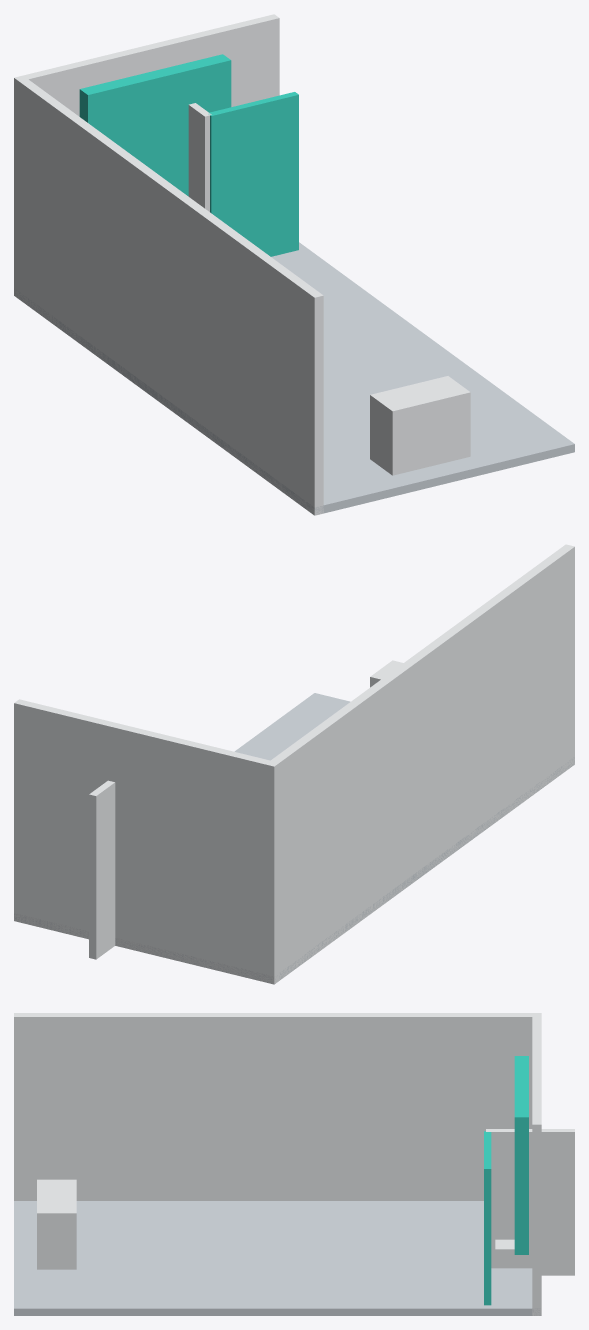
The picture shows the model from 3 angles, top to bottom: view 1: azimuth 30°, elevation 25°; view 2: azimuth 150°, elevation 25°; view 3: azimuth 270°, elevation 25°; orthographic projection. The views are drawn at different scales.
Visible parts, largest first — view 1: Exhibition Booth Concept; view 2: Exhibition Booth Concept; view 3: Exhibition Booth Concept.
Boxes of the visible parts, box(x1,y1,x2,y2) form: Exhibition Booth Concept: box(14, 14, 574, 515); Exhibition Booth Concept: box(14, 544, 574, 984); Exhibition Booth Concept: box(14, 1013, 574, 1315).
Size of the model in its own units: 4 by 3.2 by 8.51.
